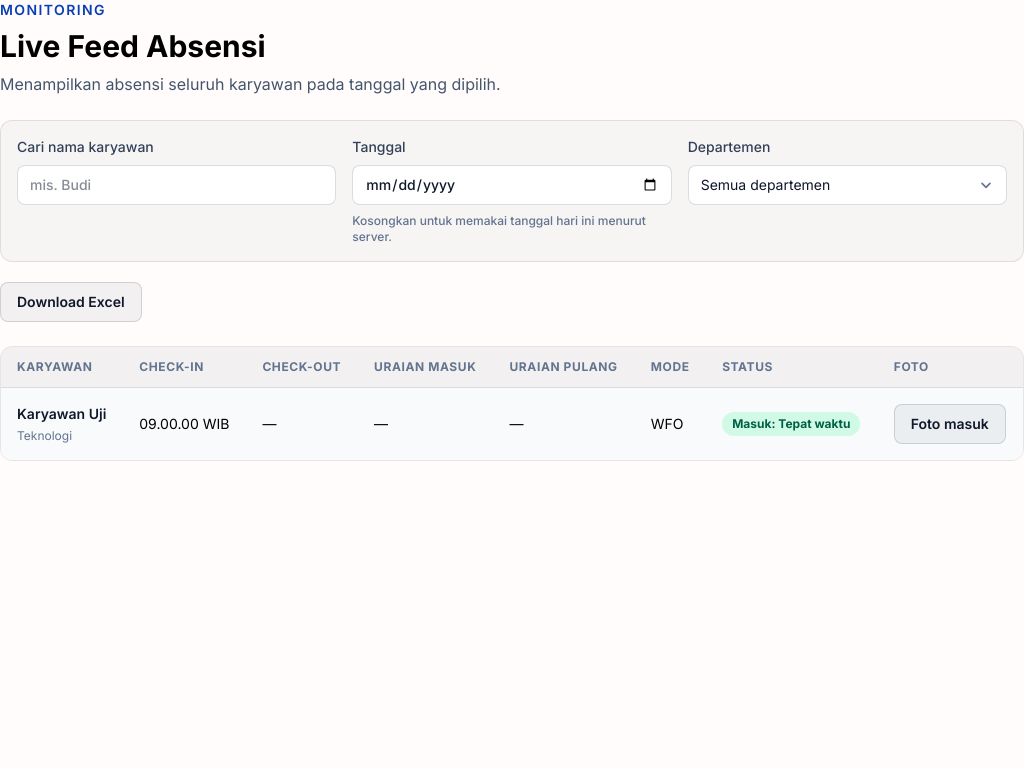
Test: LiveFeedPage › lazy loads an attendance photo only after opening the preview modal
This screenshot has width=1024, height=768.
Step 1. Click the button "Foto masuk" → click(950, 424), box [894, 404, 1006, 444]
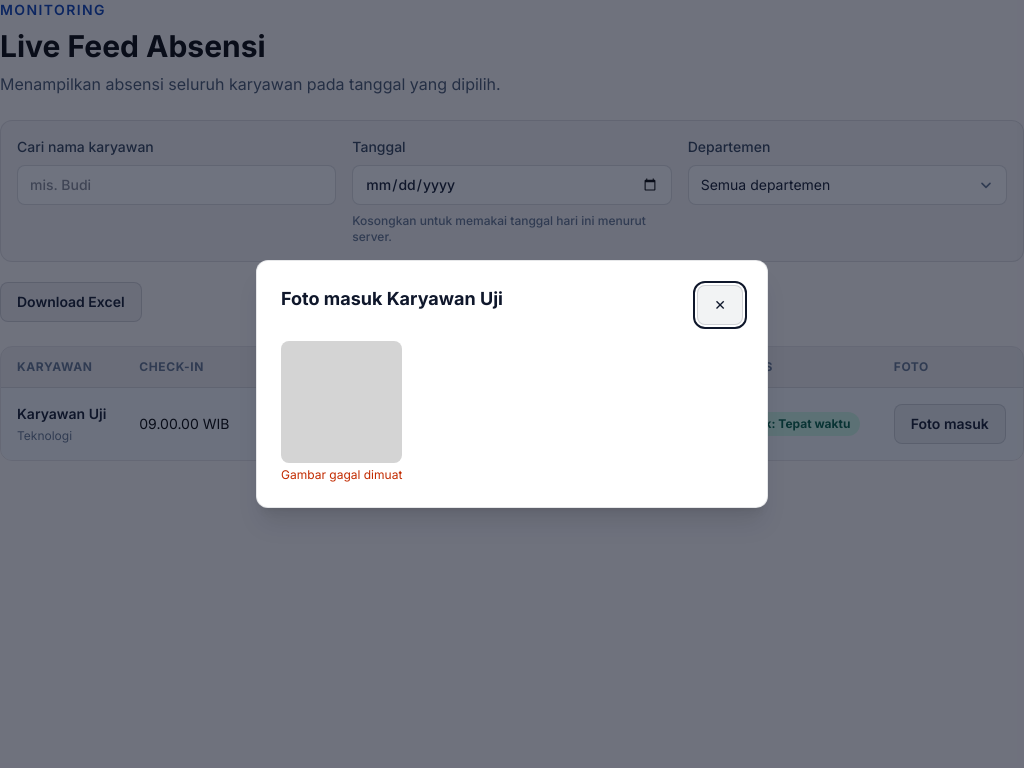
Check: the dialog "Foto masuk Karyawan Uji" is shown, box [256, 260, 768, 508]
